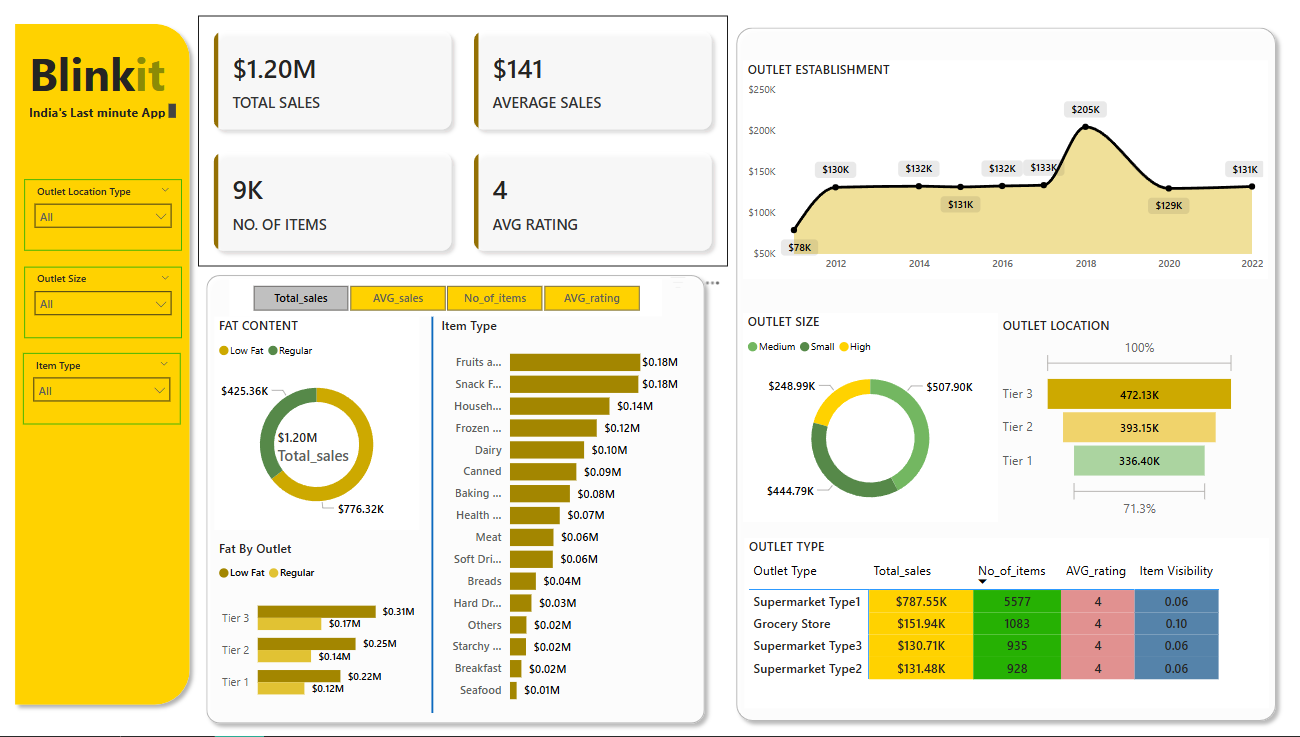

This screenshot's page, from the dashboard's own definition file:
{"tool":"powerbi","page":{"name":"Page 1","canvas":[1400,800],"ordinal":0},"visuals":[{"type":"shape","box":[9.4,24.2,205.8,750.5],"z":0},{"type":"textbox","box":[28.2,48.4,168.1,76.7],"z":1000},{"type":"textbox","box":[28.2,114.3,168.1,25.6],"z":2000},{"type":"cardVisual","fields":{"Data":["BlinkIT Grocery Data.Total_sales","BlinkIT Grocery Data.AVG_sales","BlinkIT Grocery Data.No_of_items","BlinkIT Grocery Data.AVG_rating"]},"box":[215.2,24.2,570.3,270.3],"z":3000},{"type":"shape","box":[215.2,294.6,554.1,500.3],"z":4000},{"type":"donutChart","title":"FAT CONTENT","fields":{"Y":["BlinkIT Grocery Data.Total_sales"],"Category":["BlinkIT Grocery Data.Item Fat Content"]},"box":[232.7,348.4,220.6,230],"z":5000},{"type":"slicer","fields":{"Values":["Metrics.Metrics"]},"box":[248.8,308,465.4,40.3],"z":6000},{"type":"cardVisual","fields":{"Data":["BlinkIT Grocery Data.Total_sales","BlinkIT Grocery Data.Total_sales"]},"box":[283.8,447.9,117,80.7],"z":7000},{"type":"clusteredBarChart","title":"Fat By Outlet","fields":{"Y":["BlinkIT Grocery Data.Total_sales"],"Category":["BlinkIT Grocery Data.Outlet Location Type"],"Series":["BlinkIT Grocery Data.Item Fat Content"]},"box":[232.7,587.8,220.6,187],"z":8000},{"type":"shape","box":[462.7,348.4,9.4,426.4],"z":9000},{"type":"barChart","title":"Item Type","fields":{"Category":["BlinkIT Grocery Data.Item Type"],"Y":["BlinkIT Grocery Data.Total_sales"]},"box":[472.1,348.4,265,426.4],"z":10000},{"type":"shape","box":[785.5,28.2,598.5,764],"z":11000},{"type":"lineChart","title":"OUTLET ESTABLISHMENT","fields":{"Y":["BlinkIT Grocery Data.Total_sales"],"Category":["BlinkIT Grocery Data.Outlet Establishment Year"]},"box":[801.6,72.6,564.9,235.4],"z":12000},{"type":"donutChart","title":"OUTLET SIZE","fields":{"Y":["BlinkIT Grocery Data.Total_sales"],"Category":["BlinkIT Grocery Data.Outlet Size"]},"box":[801.6,344.3,274.4,224.6],"z":13000},{"type":"funnel","title":"OUTLET LOCATION","fields":{"Category":["BlinkIT Grocery Data.Outlet Location Type"],"Y":["Sum(BlinkIT Grocery Data.Sales)"]},"box":[1076,348.4,260.9,220.6],"z":14000},{"type":"pivotTable","title":"OUTLET TYPE","fields":{"Rows":["BlinkIT Grocery Data.Outlet Type"],"Values":["BlinkIT Grocery Data.Total_sales","BlinkIT Grocery Data.No_of_items","BlinkIT Grocery Data.AVG_rating","Avg(BlinkIT Grocery Data.Item Visibility)"]},"box":[803,586.4,564.9,182.9],"z":15000},{"type":"slicer","fields":{"Values":["BlinkIT Grocery Data.Outlet Location Type"]},"box":[28.2,200.4,169.5,76.7],"z":16000},{"type":"slicer","fields":{"Values":["BlinkIT Grocery Data.Outlet Size"]},"box":[28.2,294.6,169.5,76.7],"z":17001},{"type":"slicer","fields":{"Values":["BlinkIT Grocery Data.Item Type"]},"box":[26.9,387.4,169.5,76.7],"z":17002}]}

Visuals, with their boxes in screenshot pixels (x1, y1, x2, y2), scaled from the page's 1400x800 canvas onto the 1300x737 screenshot:
shape: pyautogui.locateOnScreen(9, 22, 200, 714)
textbox: pyautogui.locateOnScreen(26, 45, 182, 115)
textbox: pyautogui.locateOnScreen(26, 105, 182, 129)
cardVisual - BlinkIT Grocery Data.Total_sales x BlinkIT Grocery Data.AVG_sales: pyautogui.locateOnScreen(200, 22, 729, 271)
shape: pyautogui.locateOnScreen(200, 271, 714, 732)
"FAT CONTENT" donutChart: pyautogui.locateOnScreen(216, 321, 421, 533)
slicer - Metrics.Metrics: pyautogui.locateOnScreen(231, 284, 663, 321)
cardVisual - BlinkIT Grocery Data.Total_sales x BlinkIT Grocery Data.Total_sales: pyautogui.locateOnScreen(264, 413, 372, 487)
"Fat By Outlet" clusteredBarChart: pyautogui.locateOnScreen(216, 542, 421, 714)
shape: pyautogui.locateOnScreen(430, 321, 438, 714)
"Item Type" barChart: pyautogui.locateOnScreen(438, 321, 684, 714)
shape: pyautogui.locateOnScreen(729, 26, 1285, 730)
"OUTLET ESTABLISHMENT" lineChart: pyautogui.locateOnScreen(744, 67, 1269, 284)
"OUTLET SIZE" donutChart: pyautogui.locateOnScreen(744, 317, 999, 524)
"OUTLET LOCATION" funnel: pyautogui.locateOnScreen(999, 321, 1241, 524)
"OUTLET TYPE" pivotTable: pyautogui.locateOnScreen(746, 540, 1270, 709)
slicer - BlinkIT Grocery Data.Outlet Location Type: pyautogui.locateOnScreen(26, 185, 184, 255)
slicer - BlinkIT Grocery Data.Outlet Size: pyautogui.locateOnScreen(26, 271, 184, 342)
slicer - BlinkIT Grocery Data.Item Type: pyautogui.locateOnScreen(25, 357, 182, 428)
